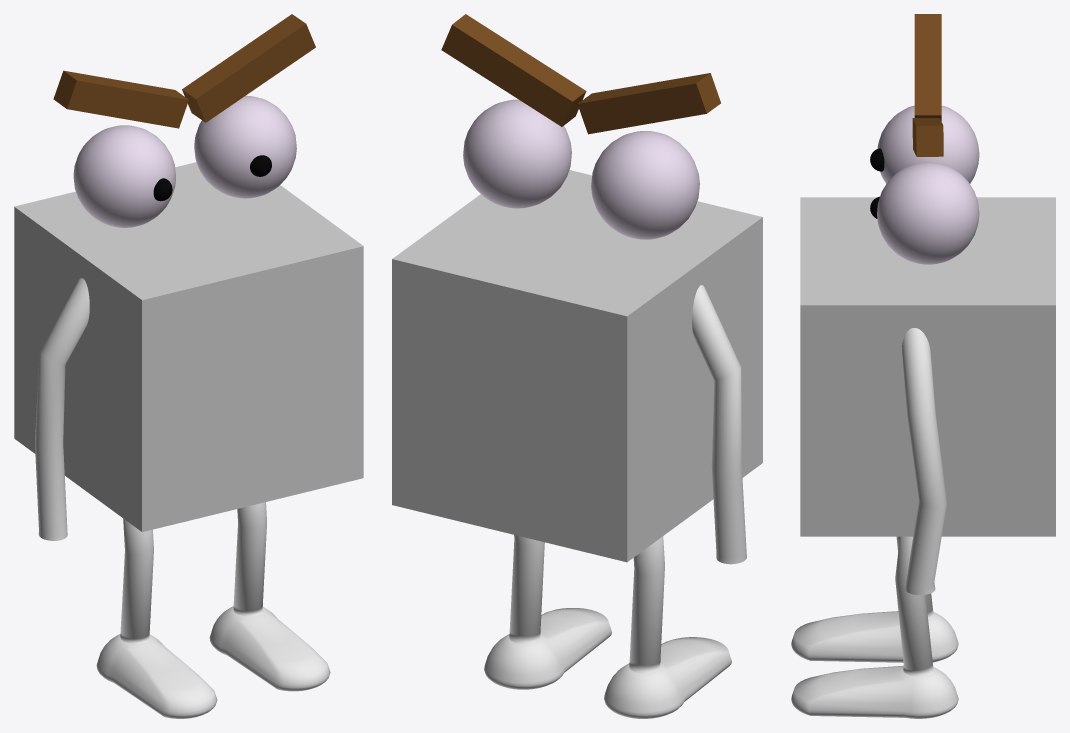
File: ennemi1.fbx
3 views of the same model, side by side, from view 1: azimuth 30°, elevation 25°; view 2: azimuth 150°, elevation 25°; view 3: azimuth 270°, elevation 25° (orthographic). The views are drawn at different scales.
Visible parts, largest first — view 1: Cube, Sphere.004, Sphere.005, Sphere, Sphere.001, Cylinder, Cube.002, Cube.001; view 2: Cube, Sphere.004, Sphere.005, Sphere, Sphere.001, Cylinder, Cube.002, Cube.001; view 3: Cube, Sphere.005, Sphere.001, Cylinder.001, Sphere.004, Sphere, Cube.001, Cube.002.
Boxes of the visible parts, bbox=[...] form: Cube: bbox=[14, 162, 363, 532]; Sphere.004: bbox=[96, 518, 217, 718]; Sphere.005: bbox=[209, 502, 330, 691]; Sphere: bbox=[73, 125, 175, 227]; Sphere.001: bbox=[194, 95, 296, 198]; Cylinder: bbox=[35, 278, 89, 540]; Cube.002: bbox=[182, 14, 315, 122]; Cube.001: bbox=[53, 70, 188, 128]; Cube: bbox=[392, 170, 762, 562]; Sphere.004: bbox=[604, 536, 731, 718]; Sphere.005: bbox=[484, 535, 611, 689]; Sphere: bbox=[591, 131, 699, 239]; Sphere.001: bbox=[463, 99, 571, 208]; Cylinder: bbox=[692, 285, 746, 564]; Cube.002: bbox=[441, 14, 586, 126]; Cube.001: bbox=[577, 73, 720, 134]; Cube: bbox=[800, 197, 1055, 536]; Sphere.005: bbox=[791, 536, 958, 718]; Sphere.001: bbox=[877, 162, 979, 264]; Cylinder.001: bbox=[902, 328, 946, 595]; Sphere.004: bbox=[791, 536, 958, 662]; Sphere: bbox=[877, 105, 979, 183]; Cube.001: bbox=[914, 14, 941, 121]; Cube.002: bbox=[912, 118, 943, 156].
Bounding box in the file's own units: 247 × 474 × 186.
